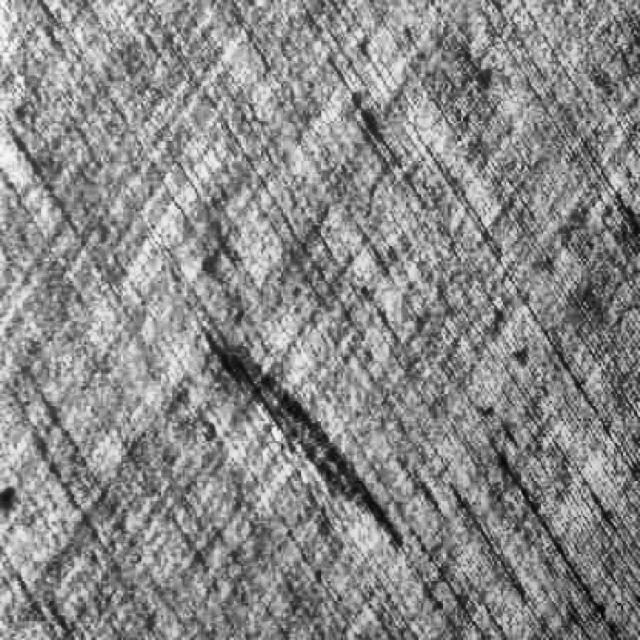oil_spot: (192, 306, 408, 564)
